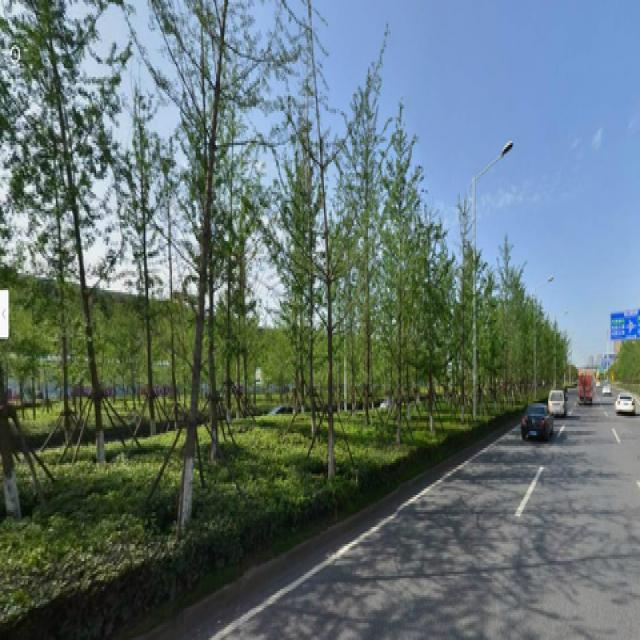gink: (181, 4, 247, 514), (296, 24, 353, 482), (388, 87, 425, 429)
